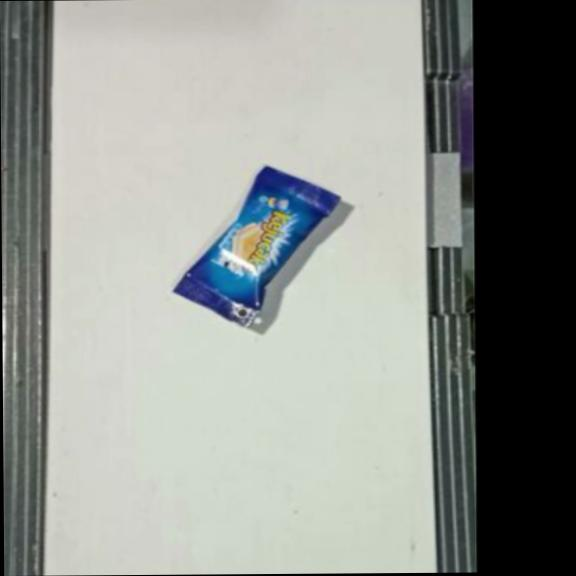Plastik: (173, 163, 342, 329)
